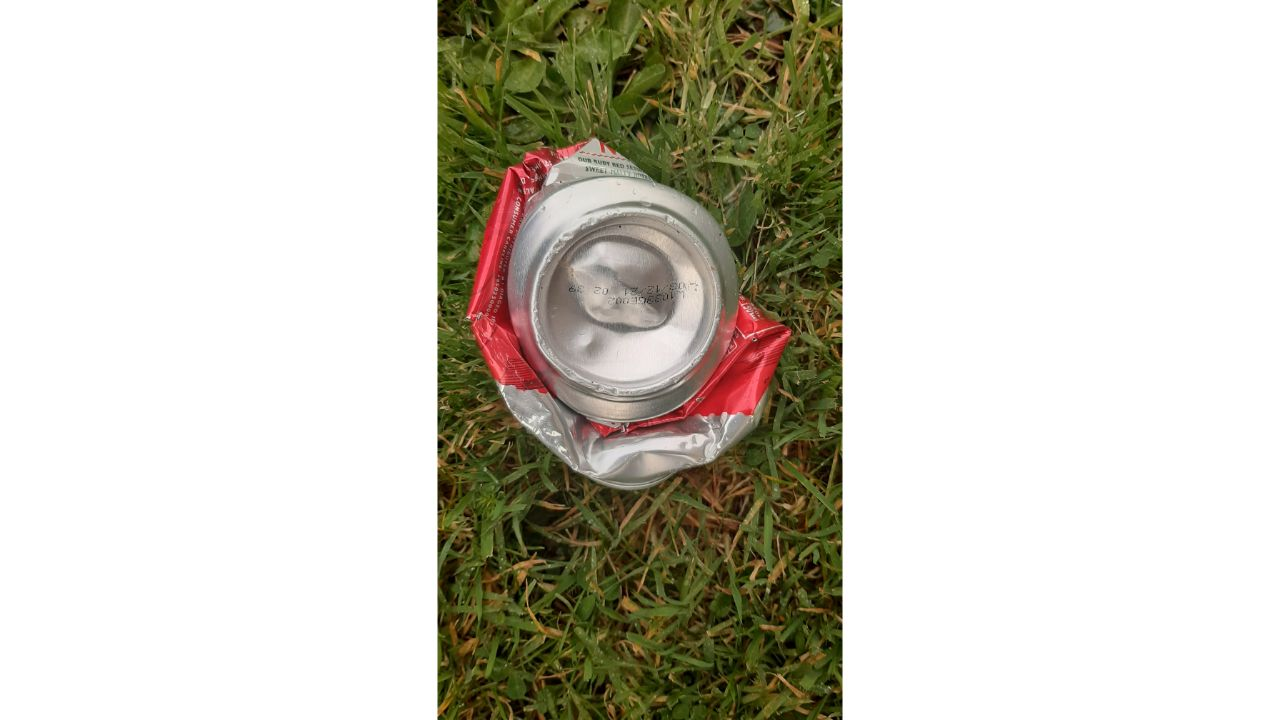Can: (467, 134, 791, 488)
